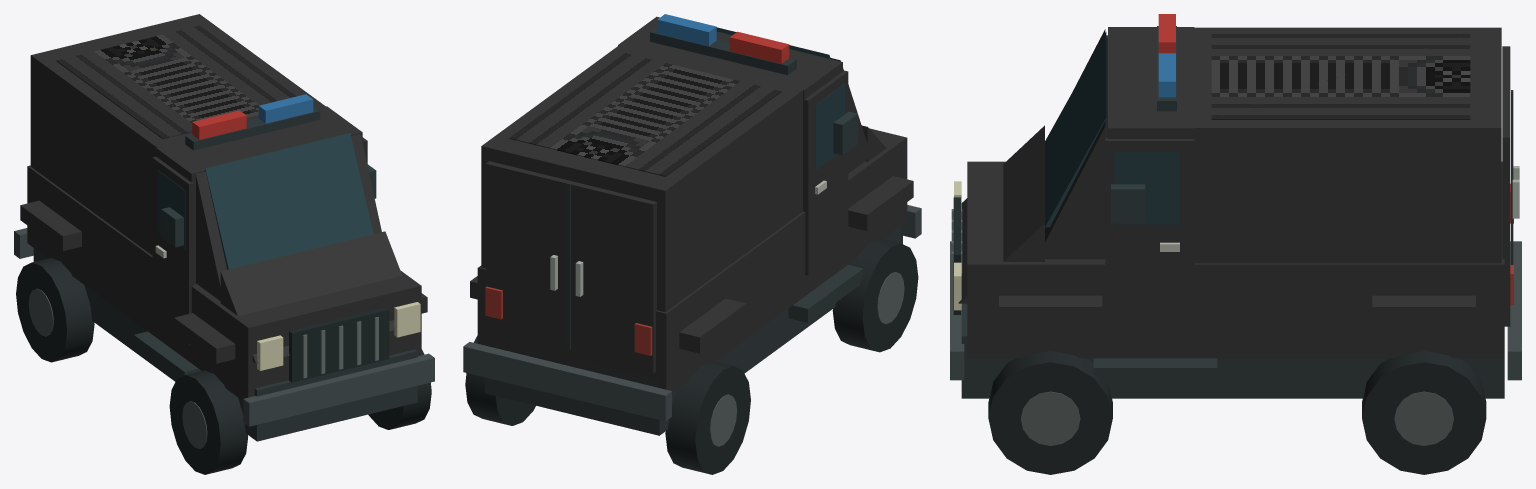
File: CMU3DReduxVehicleCMBPoliceVan.glb
The picture shows the model from 3 angles, left to right: view 1: azimuth 30°, elevation 25°; view 2: azimuth 150°, elevation 25°; view 3: azimuth 270°, elevation 25°; orthographic projection. The views are drawn at different scales.
Visible parts, largest first — view 1: lower vehicle body, enclosed rear body, windshield, source roof livery, rubber road tire (×3), front hood, sealed chassis, bumper (×2), cab bulkhead, cab door skin, front grille, sloping cab frame (+9 smaller); view 2: enclosed rear body, rear double doors, lower vehicle body, source roof livery, rubber road tire (×3), bumper (×2), sealed chassis, cab door skin, wheel fender (×2), cab bulkhead, recessed metal wheel hub (×2), running board (+8 smaller); view 3: enclosed rear body, lower vehicle body, source roof livery, rubber road tire (×2), cab door skin, sealed chassis, cab bulkhead, wheel fender (×2), windshield, front hood, sloping cab frame, recessed metal wheel hub (×2) (+8 smaller).
Boxes of the visible parts, x1,y1,x2,y2 form: lower vehicle body: (27,165,421,400); enclosed rear body: (30,14,325,254); windshield: (205,133,373,269); source roof livery: (56,25,296,138); rubber road tire (×3): (16,258,431,474); front hood: (220,231,402,363); sealed chassis: (33,248,417,441); bumper (×2): (14,228,434,426); cab bulkhead: (156,106,362,284); cab door skin: (152,156,193,344); front grille: (289,307,389,382); sloping cab frame: (196,134,381,303); enclosed rear body: (481,40,802,312); rear double doors: (485,161,656,373); lower vehicle body: (477,128,907,393); source roof livery: (509,53,781,176); rubber road tire (×3): (465,238,918,474); bumper (×2): (463,205,921,421); sealed chassis: (484,226,902,435); cab door skin: (803,70,848,275); wheel fender (×2): (679,176,913,353); cab bulkhead: (618,16,842,185); recessed metal wheel hub (×2): (709,272,904,446); running board: (788,265,863,322); enclosed rear body: (1180,27,1501,263); lower vehicle body: (967,161,1504,358); source roof livery: (1211,34,1470,119); rubber road tire (×2): (988,351,1486,474); cab door skin: (1105,138,1194,336); sealed chassis: (961,303,1504,398); cab bulkhead: (1108,27,1194,138); wheel fender (×2): (999,295,1475,325); windshield: (1045,32,1106,227); front hood: (958,125,1044,303); sloping cab frame: (1037,29,1105,259); recessed metal wheel hub (×2): (1020,391,1453,445).
Bounding box in the file's own units: 1.04 × 1.4 × 1.99.
21 materials, 1 textured.
